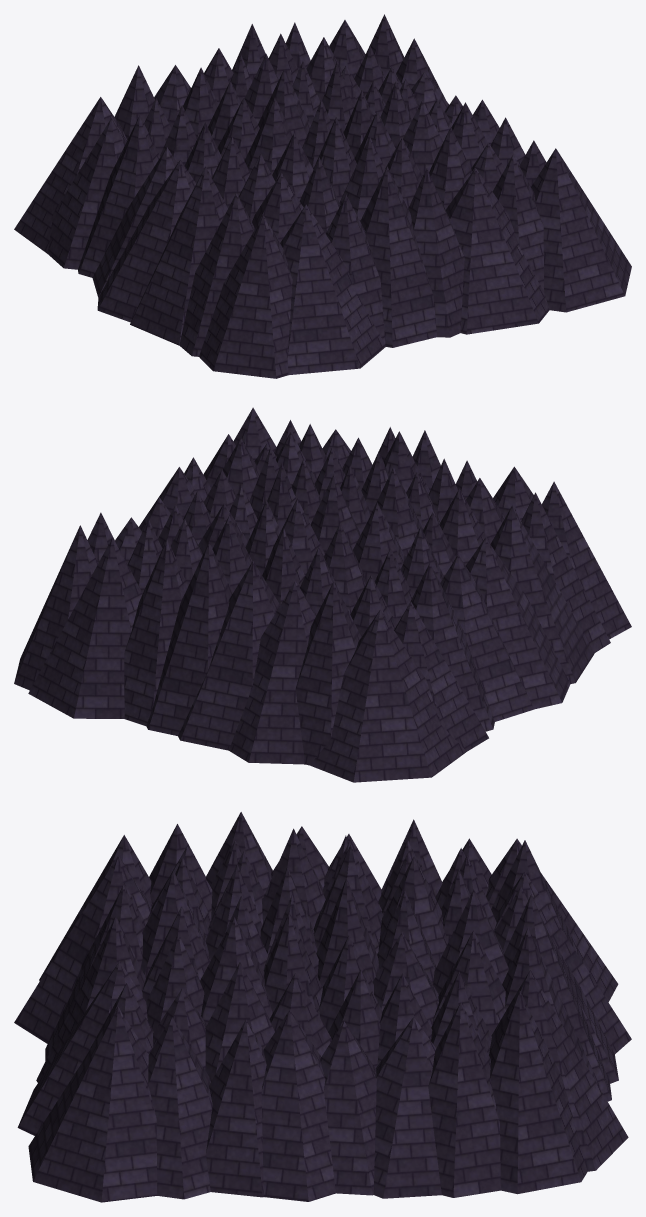
Rendered from chunk_11_24.glb.
3 views of the same model, one above another, from view 1: azimuth 30°, elevation 25°; view 2: azimuth 150°, elevation 25°; view 3: azimuth 270°, elevation 25° (orthographic). The views are drawn at different scales.
Visible parts, largest first — view 1: chunk_11_24; view 2: chunk_11_24; view 3: chunk_11_24.
Boxes of the visible parts, x1,y1,x2,y2 form: chunk_11_24: [14, 14, 631, 378]; chunk_11_24: [14, 407, 631, 782]; chunk_11_24: [14, 812, 631, 1202].
Size of the model in its own units: 21.51 by 8.34 by 21.59.
3 materials, 3 textured.
